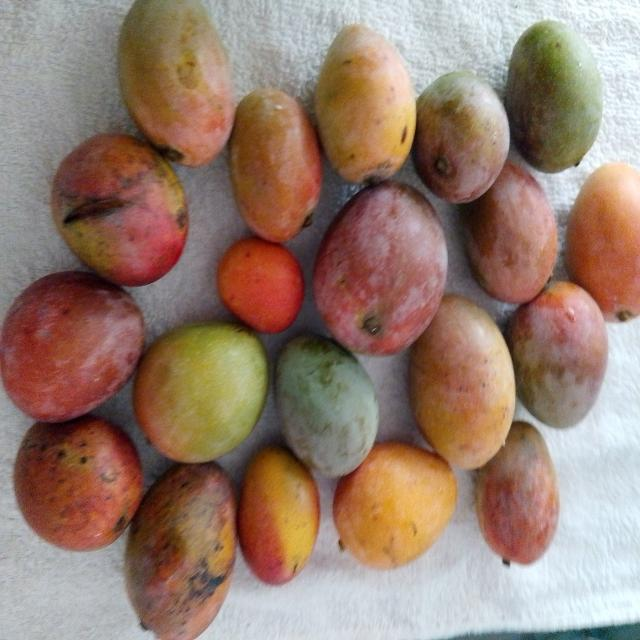mango: (313, 180, 450, 364), (50, 129, 195, 291), (0, 272, 147, 417), (409, 285, 519, 469), (133, 320, 275, 462), (125, 463, 236, 639), (118, 0, 235, 166), (11, 410, 141, 555), (330, 438, 458, 576), (272, 330, 381, 477), (315, 25, 415, 182), (506, 15, 602, 174), (228, 84, 325, 241), (471, 416, 563, 573), (411, 69, 513, 206), (236, 447, 323, 589), (568, 157, 640, 328)
